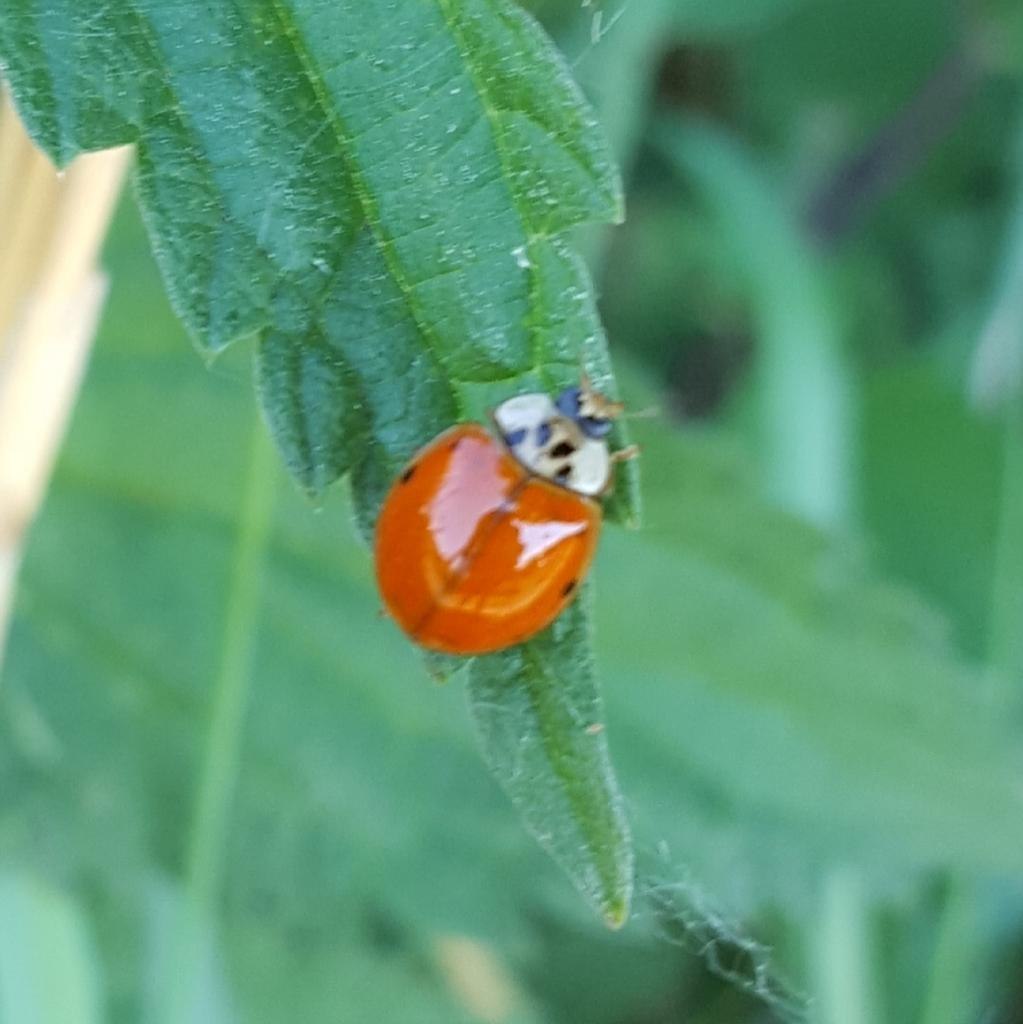ladybug: (371, 366, 654, 659)
